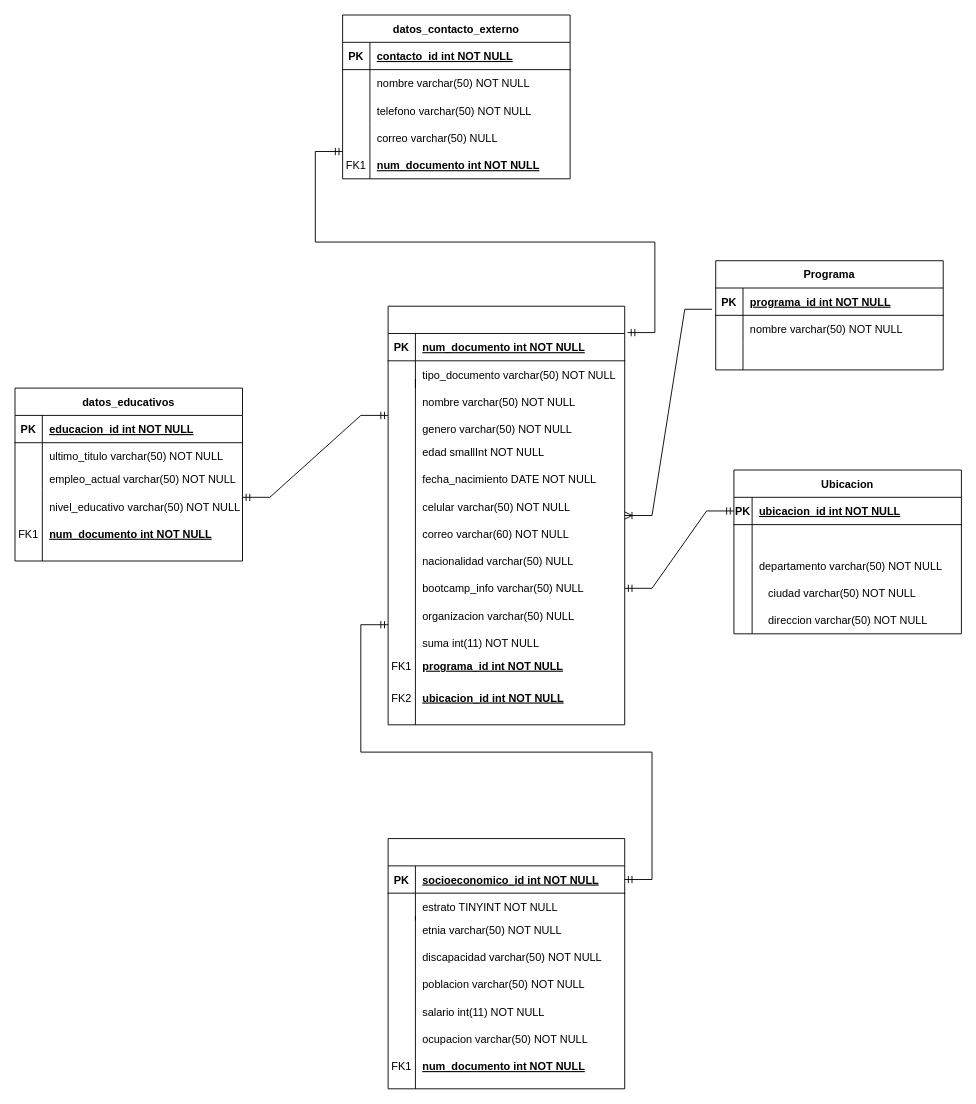
This 976x1104 diagram has some shape labels left out. Each missing label, with the box of its shape:
Aspirante: (387, 305, 625, 725)
datos_socioeconomicos: (387, 838, 625, 1089)
